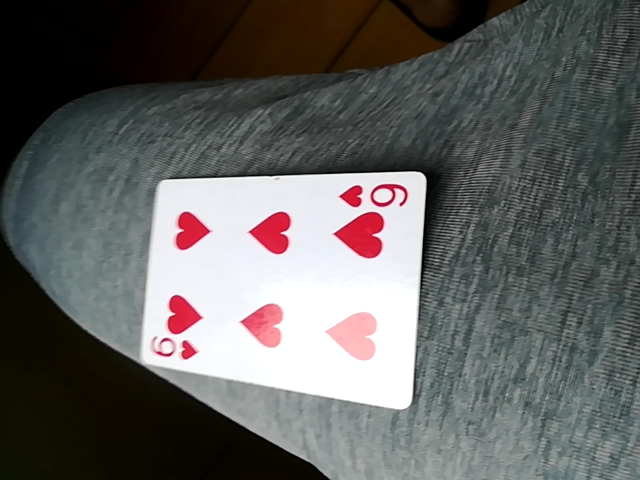hx 6: (144, 165, 429, 414)
